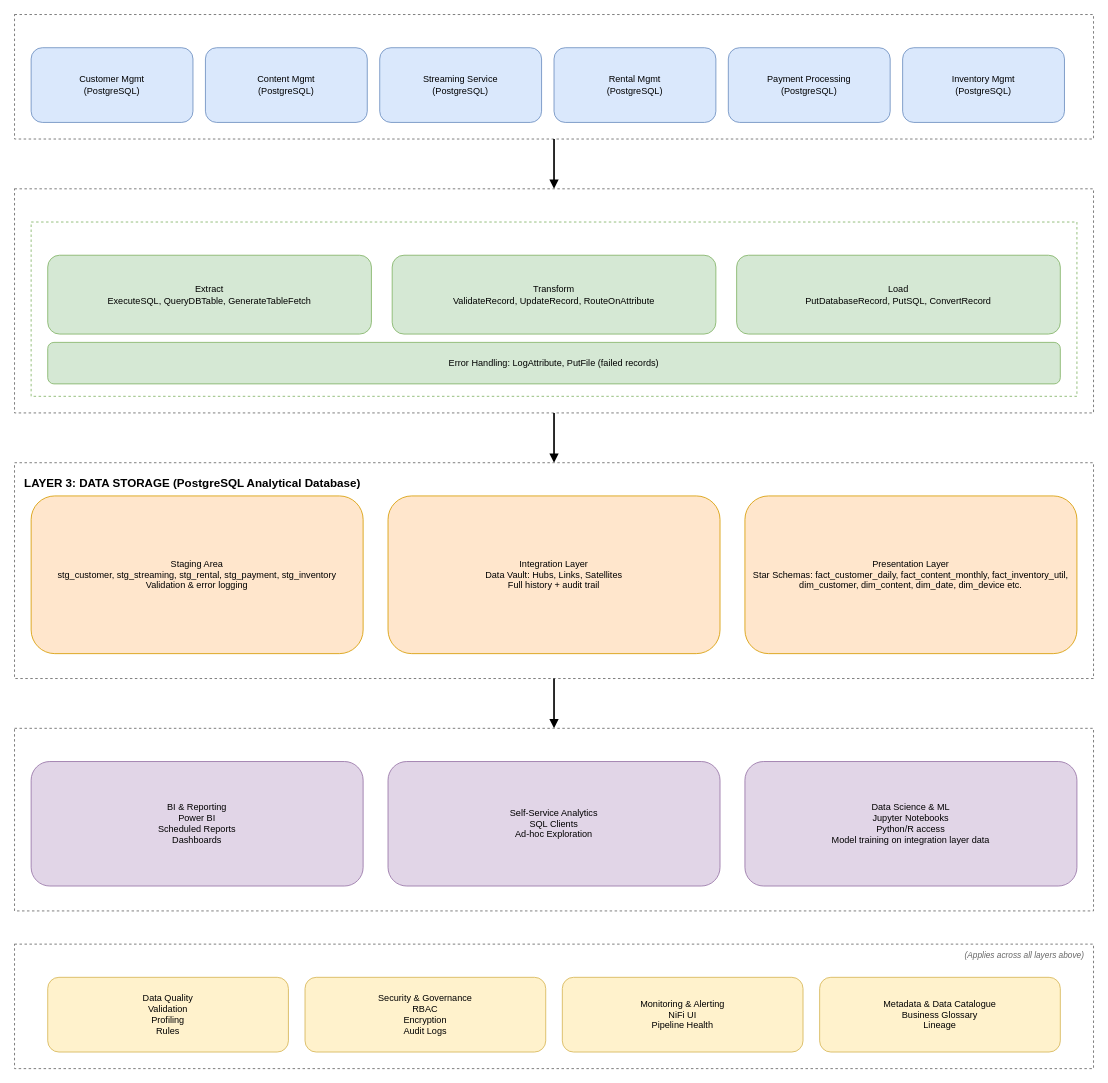
Image size: 1108x1083. Some labels were removed from this diagram. Here are the shapes that lost their labels. From the top down, the box of each, then its label:
(14, 14, 1094, 139): LAYER 1: SOURCE SYSTEMS
(30, 221, 1077, 396): Apache NiFi
(14, 188, 1094, 413): LAYER 2: DATA INGESTION (Apache NiFi)
(14, 727, 1094, 911): LAYER 4: DATA CONSUMPTION
(14, 943, 1094, 1069): CROSS-CUTTING CONCERNS
